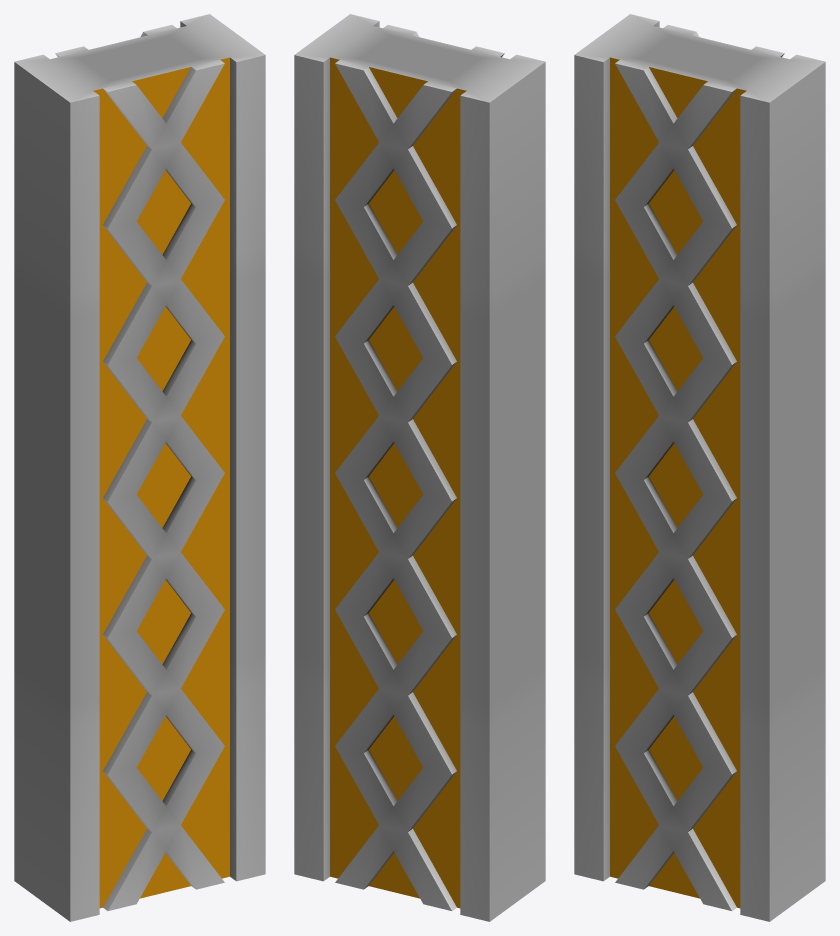
The model's file is obj_dekotora_detailpiece03.fbx.
3 renders of one model, left to right at view 1: azimuth 30°, elevation 25°; view 2: azimuth 150°, elevation 25°; view 3: azimuth 330°, elevation 25°, orthographic.
Parts seen in each view (by area): view 1: Plane.005, Cube.035, Plane.006; view 2: Plane.005, Cube.035, Plane.006; view 3: Plane.005, Cube.035, Plane.006.
Boxes of the visible parts, x1,y1,x2,y2 form: Plane.005: [14, 14, 265, 921]; Cube.035: [93, 57, 229, 908]; Plane.006: [55, 25, 224, 910]; Plane.005: [294, 14, 545, 921]; Cube.035: [330, 57, 466, 908]; Plane.006: [335, 25, 504, 910]; Plane.005: [574, 14, 825, 921]; Cube.035: [610, 57, 746, 908]; Plane.006: [615, 25, 784, 910].
Bounding box in the file's own units: 2 × 8 × 0.9928.
